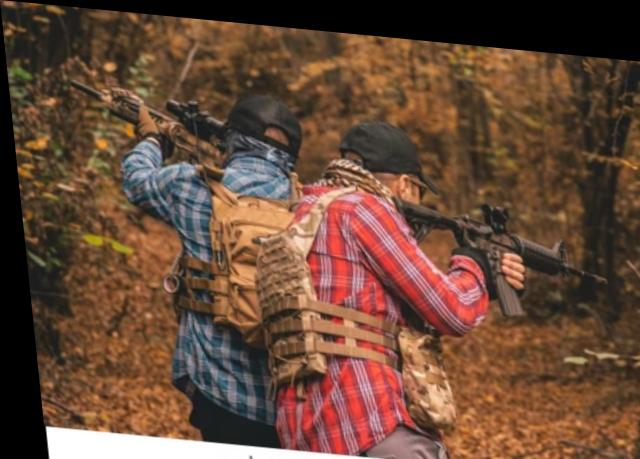other: (124, 81, 315, 436), (275, 101, 469, 440)
